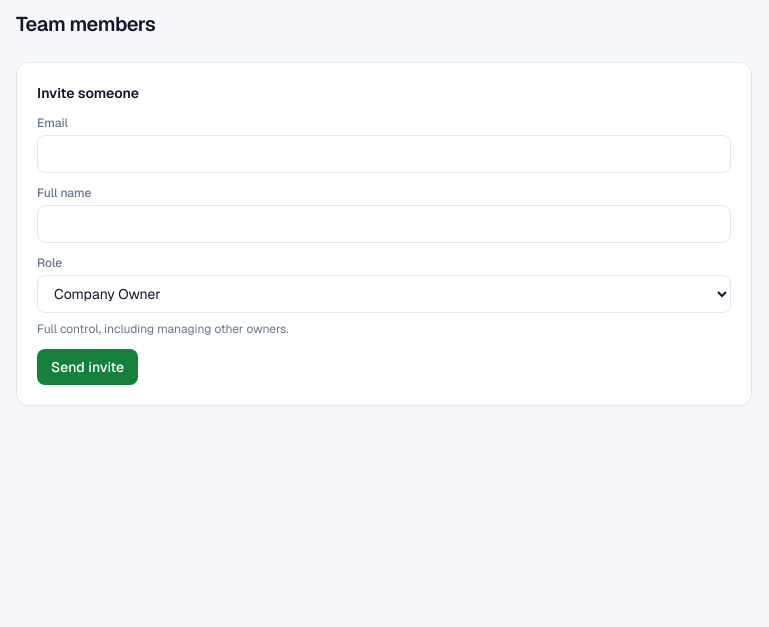
TeamPage › invite form submits email/fullName/roleName and shows the accept-URL fallback when email isn't configured
This screenshot has width=769, height=627.
Check: the heading "Invite someone" is shown, box [37,84,139,102]
In the field labelled "Email": (384, 154) [37,135,731,173], type "new@example.com"
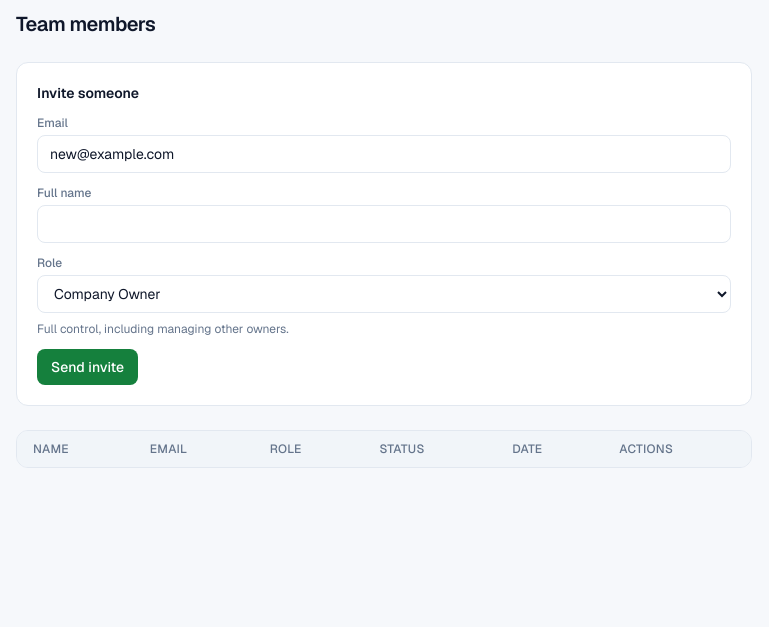
In the field labelled "Full name": (384, 224) [37,205,731,243], type "New Person"
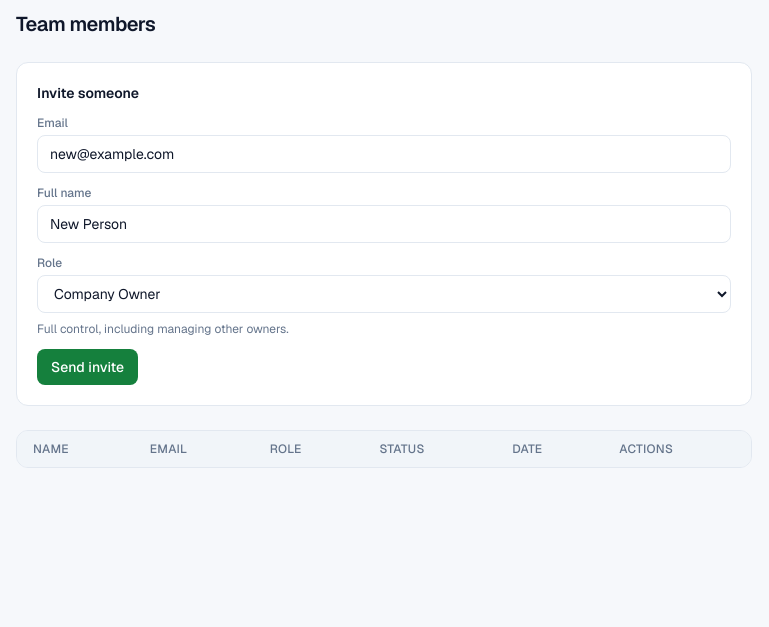
Click the button "Send invite": (88, 367) [37,349,138,385]
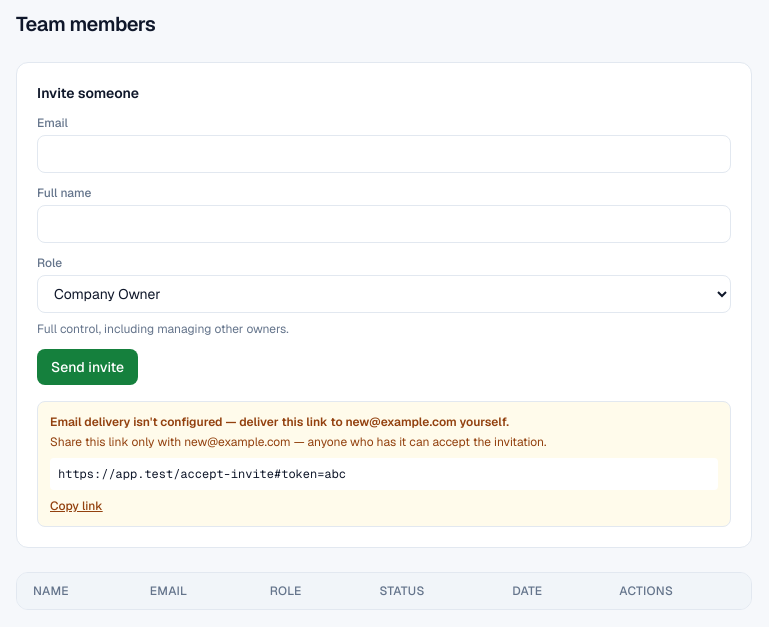
Check: the text "Share this link only with new@example.com" is shown, box [50,434,546,450]
